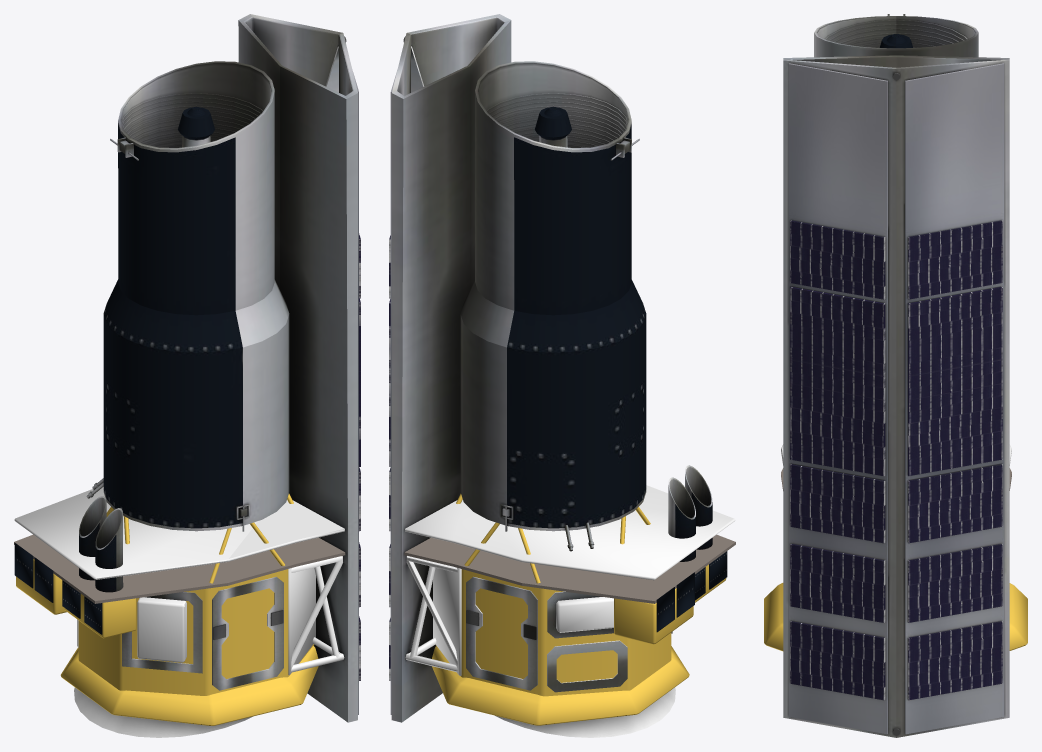
The model's file is spitzer.glb.
3 renders of one model, left to right at view 1: azimuth 30°, elevation 25°; view 2: azimuth 150°, elevation 25°; view 3: azimuth 270°, elevation 25°, orthographic. The views are drawn at different scales.
Parts seen in each view (by area): view 1: BUS, gold_foil, silver_foil, BUS.002, foil_platform, BUS.001; view 2: BUS, gold_foil, silver_foil, BUS.002, foil_platform, BUS.001; view 3: BUS, gold_foil.
Part boxes in pixels (bbox=[...]): BUS: bbox=[14, 14, 360, 722]; gold_foil: bbox=[16, 493, 318, 725]; silver_foil: bbox=[14, 487, 344, 675]; BUS.002: bbox=[103, 279, 289, 352]; foil_platform: bbox=[14, 534, 345, 603]; BUS.001: bbox=[74, 687, 252, 737]; BUS: bbox=[389, 14, 727, 722]; gold_foil: bbox=[432, 493, 726, 725]; silver_foil: bbox=[405, 485, 735, 675]; BUS.002: bbox=[460, 280, 646, 352]; foil_platform: bbox=[404, 534, 735, 603]; BUS.001: bbox=[495, 687, 675, 737]; BUS: bbox=[783, 14, 1009, 737]; gold_foil: bbox=[764, 583, 1027, 651].
Bounding box in the file's own units: 3.62 × 7.88 × 2.71.
Materials: 8 (3 with a texture image).
